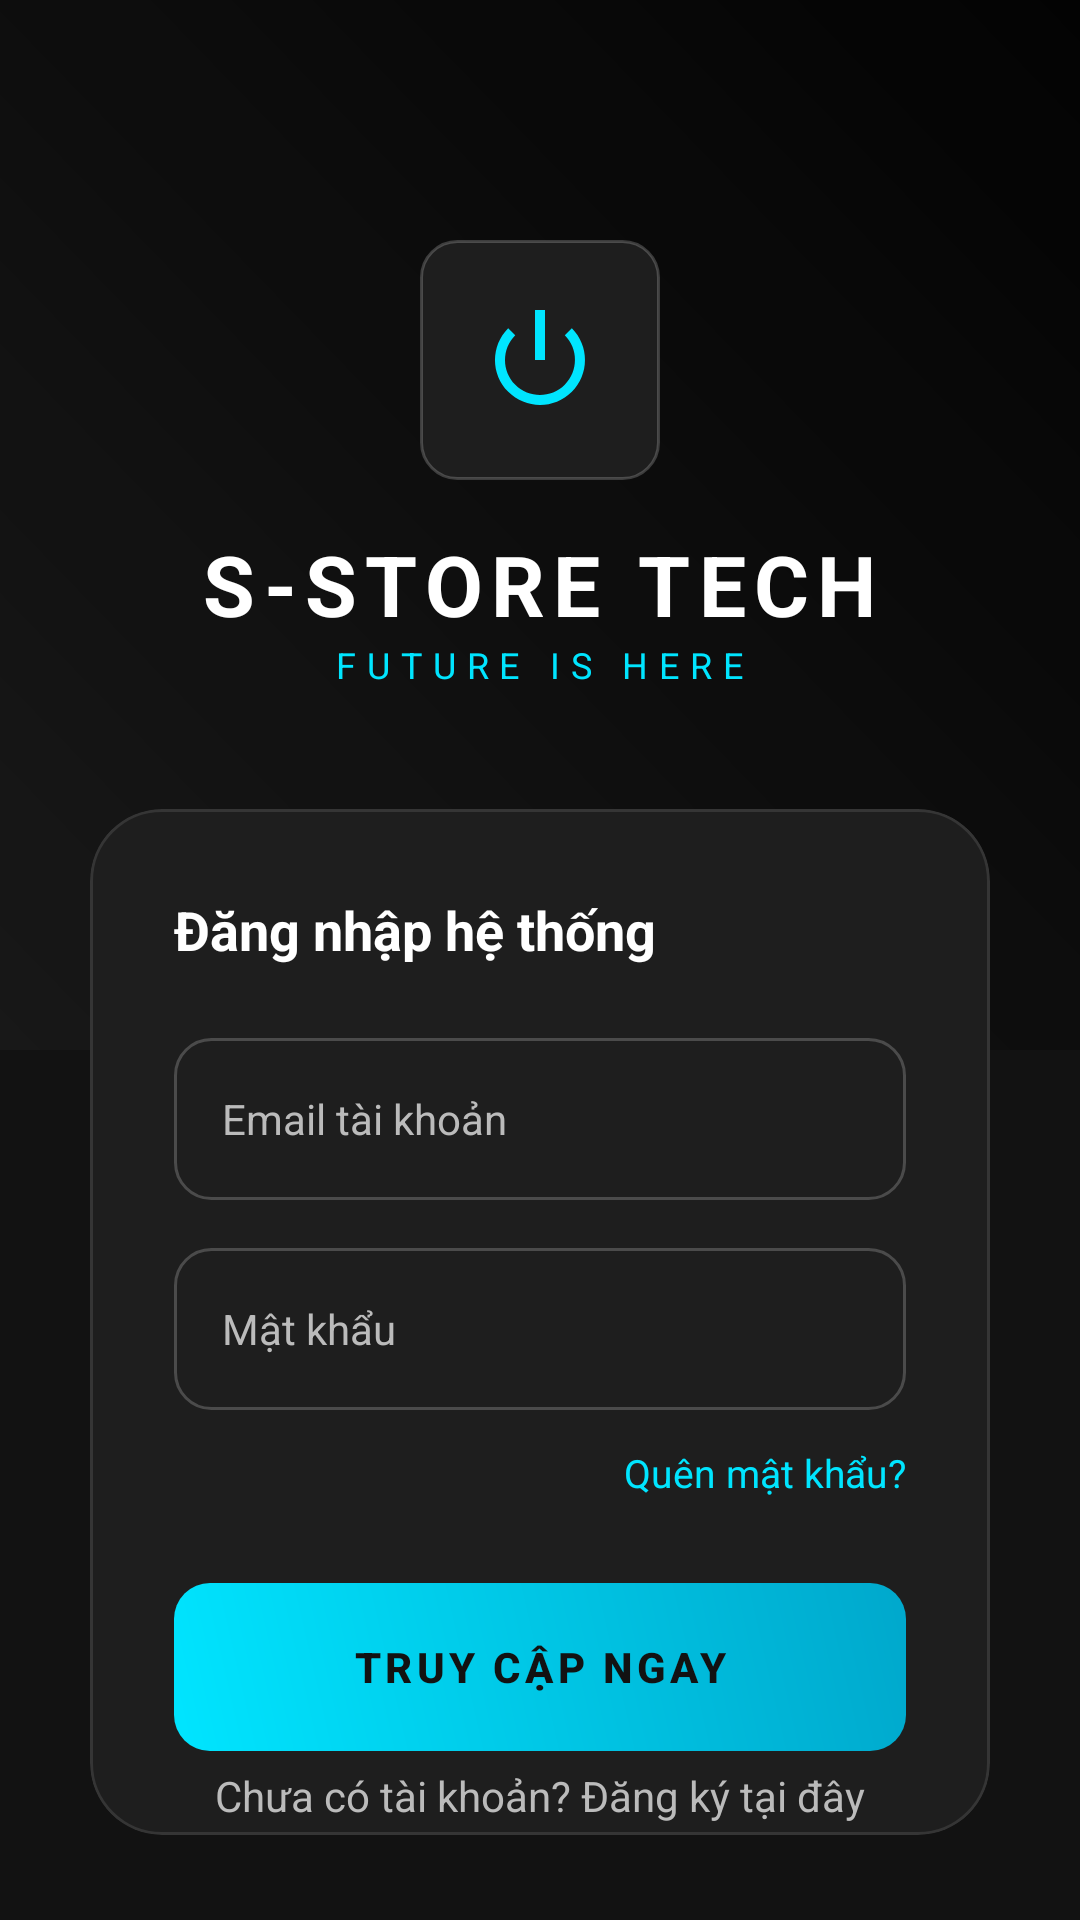

Icon bounding boxes for this 1080*1920 phone screenshot, format bbox=(x1, y1, x2, y2):
lock power off: bbox=(420, 240, 660, 480)
